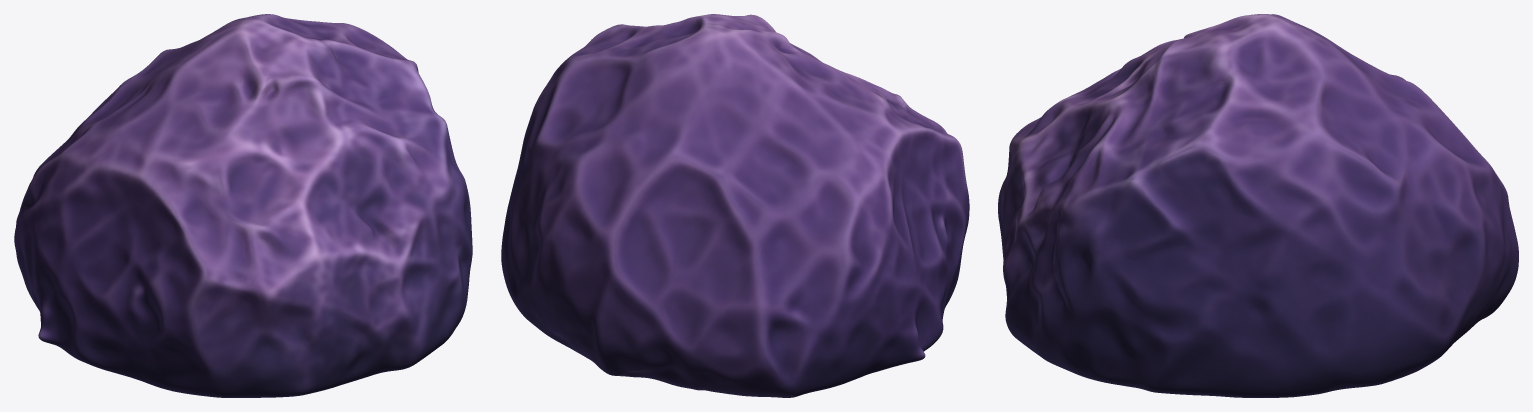
Rendered from Meshy_AI_Amethyst_Prism_0919001011_texture.glb.
3 renders of one model, left to right at view 1: azimuth 30°, elevation 25°; view 2: azimuth 150°, elevation 25°; view 3: azimuth 270°, elevation 25°, orthographic. The views are drawn at different scales.
Bounding box in the file's own units: 1.78 × 1.27 × 1.9.
1 material, 1 textured.
